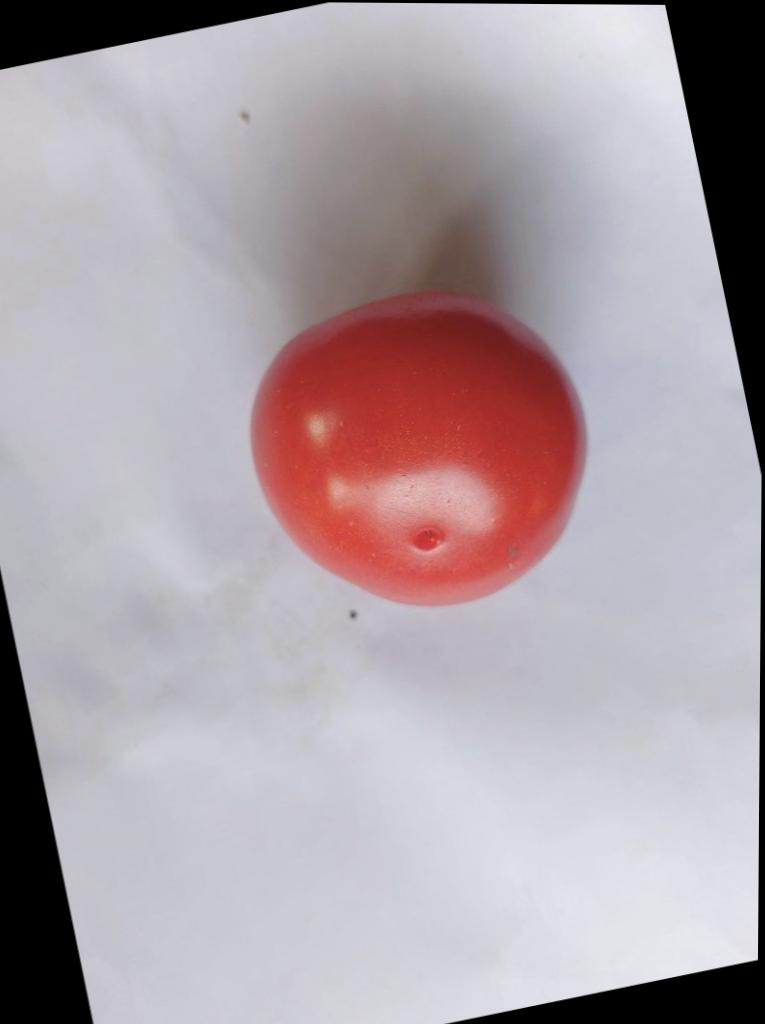tomato: (251, 293, 586, 605)
